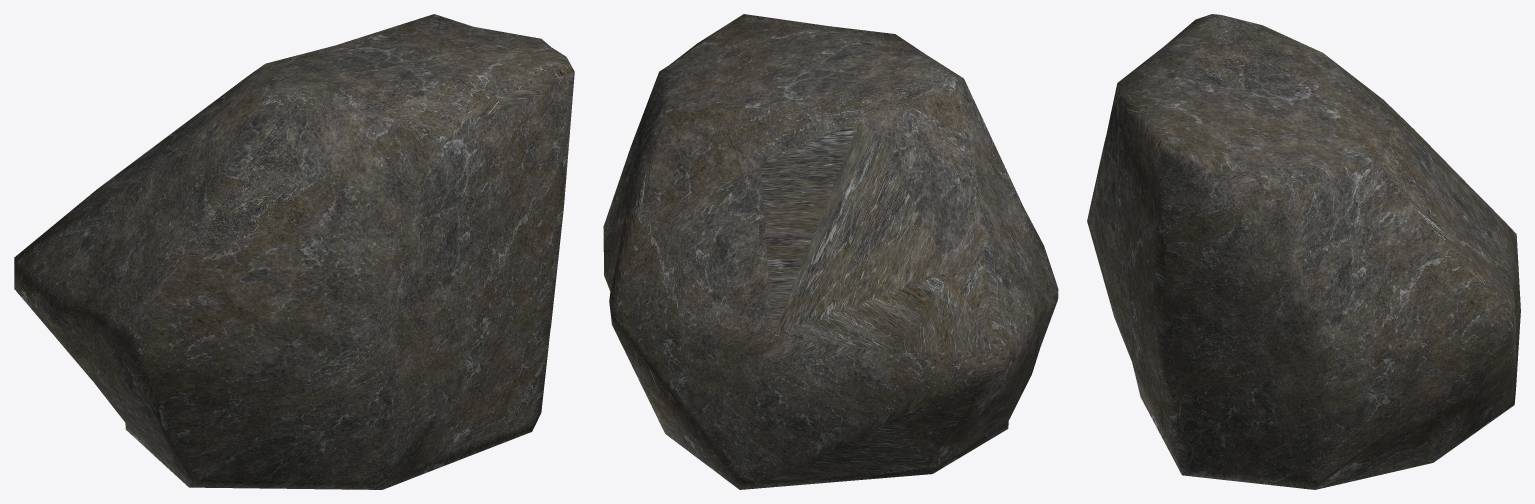
Rendered from granite_boulder_LOD2.fbx.
3 renders of one model, left to right at view 1: azimuth 30°, elevation 25°; view 2: azimuth 150°, elevation 25°; view 3: azimuth 270°, elevation 25°, orthographic. The views are drawn at different scales.
Visible parts, largest first — view 1: granite_boulder_LOD2; view 2: granite_boulder_LOD2; view 3: granite_boulder_LOD2.
Boxes of the visible parts, x1=… form: granite_boulder_LOD2: x1=14, y1=14, x2=574, y2=489; granite_boulder_LOD2: x1=603, y1=14, x2=1058, y2=489; granite_boulder_LOD2: x1=1087, y1=14, x2=1520, y2=489.
Bounding box in the file's own units: 309 × 225 × 250.
